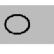no answer: (3, 12, 32, 37)
